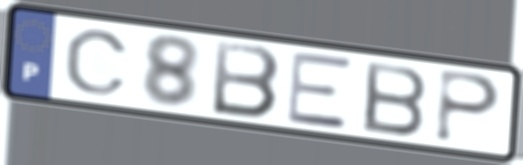8: (139, 31, 202, 113)
B: (209, 37, 284, 123), (361, 58, 431, 139)
C: (62, 27, 133, 97)
E: (285, 50, 354, 132)
P: (431, 66, 505, 146)
